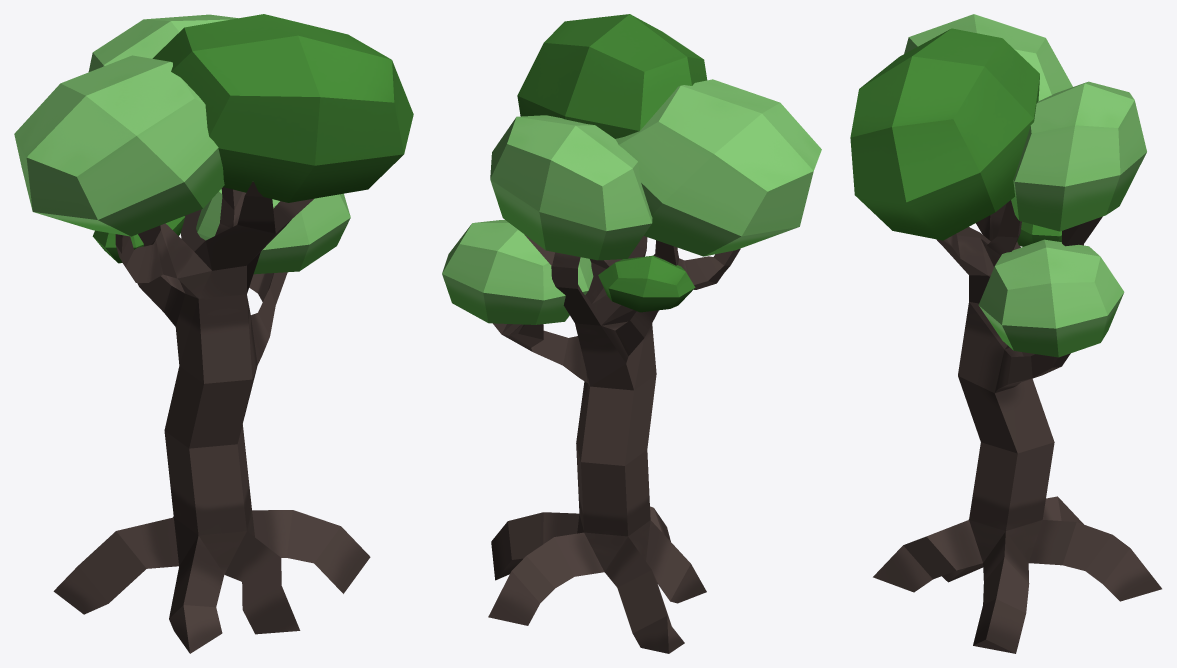
File: Tree.fbx
3 views of the same model, side by side, from view 1: azimuth 30°, elevation 25°; view 2: azimuth 150°, elevation 25°; view 3: azimuth 270°, elevation 25° (orthographic). The views are drawn at different scales.
Visible parts, largest first — view 1: Leaves, Icosphere; view 2: Leaves, Icosphere; view 3: Leaves, Icosphere.
Boxes of the visible parts, box(x1,y1,x2,y2) form: Leaves: box(14, 14, 413, 274); Icosphere: box(53, 181, 370, 653); Leaves: box(442, 14, 821, 324); Icosphere: box(488, 234, 740, 653); Leaves: box(850, 14, 1146, 357); Icosphere: box(873, 200, 1161, 653).
Bounding box in the file's own units: 157 × 253 × 129.
